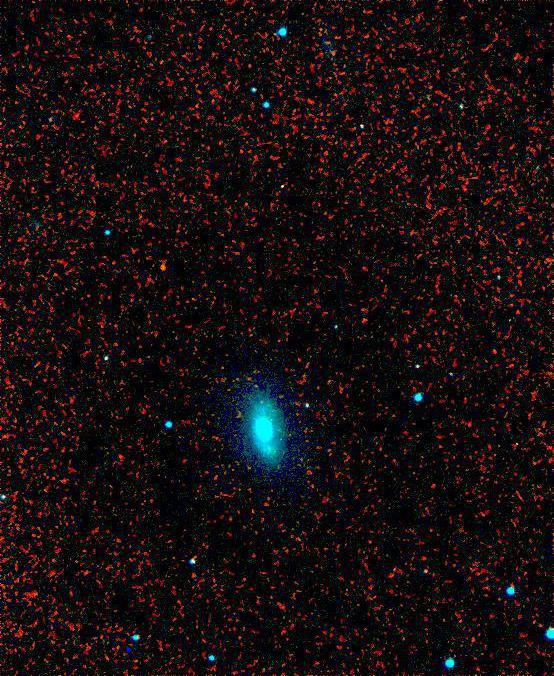star: (147, 252, 177, 282)
